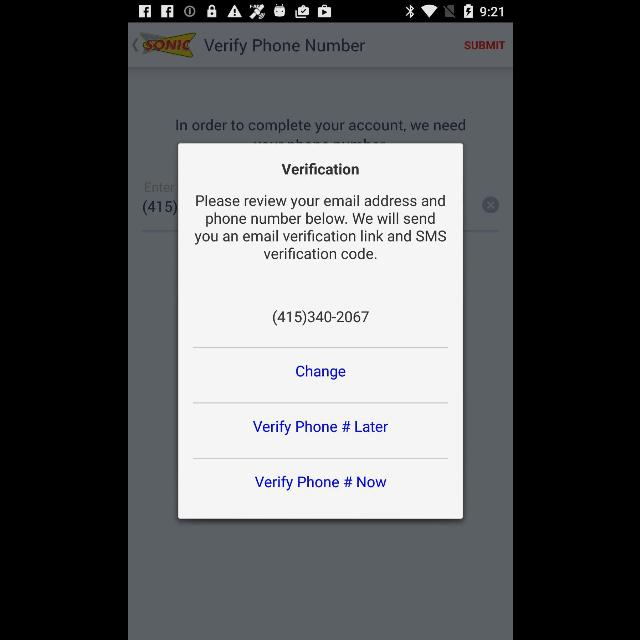icon: (482, 196, 498, 214), (131, 38, 137, 52)
image: (139, 34, 195, 58)
panel: (178, 144, 462, 518)
text: (193, 194, 445, 260), (176, 120, 464, 132), (204, 38, 364, 56), (252, 420, 388, 436), (254, 475, 386, 491), (272, 310, 368, 326), (280, 162, 358, 175), (294, 364, 346, 380), (142, 200, 176, 216), (464, 40, 504, 50), (144, 182, 174, 192)
uppertaskbar: (128, 1, 512, 23)
